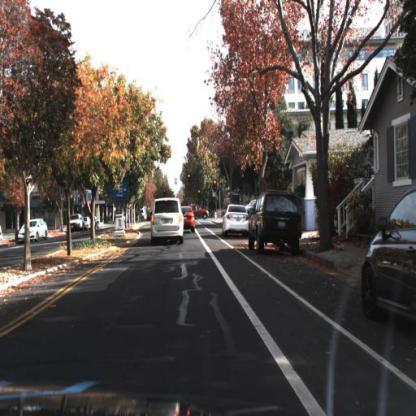car: (362, 190, 416, 332), (245, 185, 302, 260), (150, 195, 189, 249), (221, 201, 252, 238), (19, 218, 50, 247), (181, 204, 197, 240), (186, 202, 210, 222), (194, 198, 212, 222), (66, 213, 81, 237), (82, 214, 94, 236)
trafficLight-Red: (187, 172, 192, 184), (198, 189, 203, 201), (214, 178, 218, 191)
trafficLight-RedLeft: (163, 188, 168, 202)
